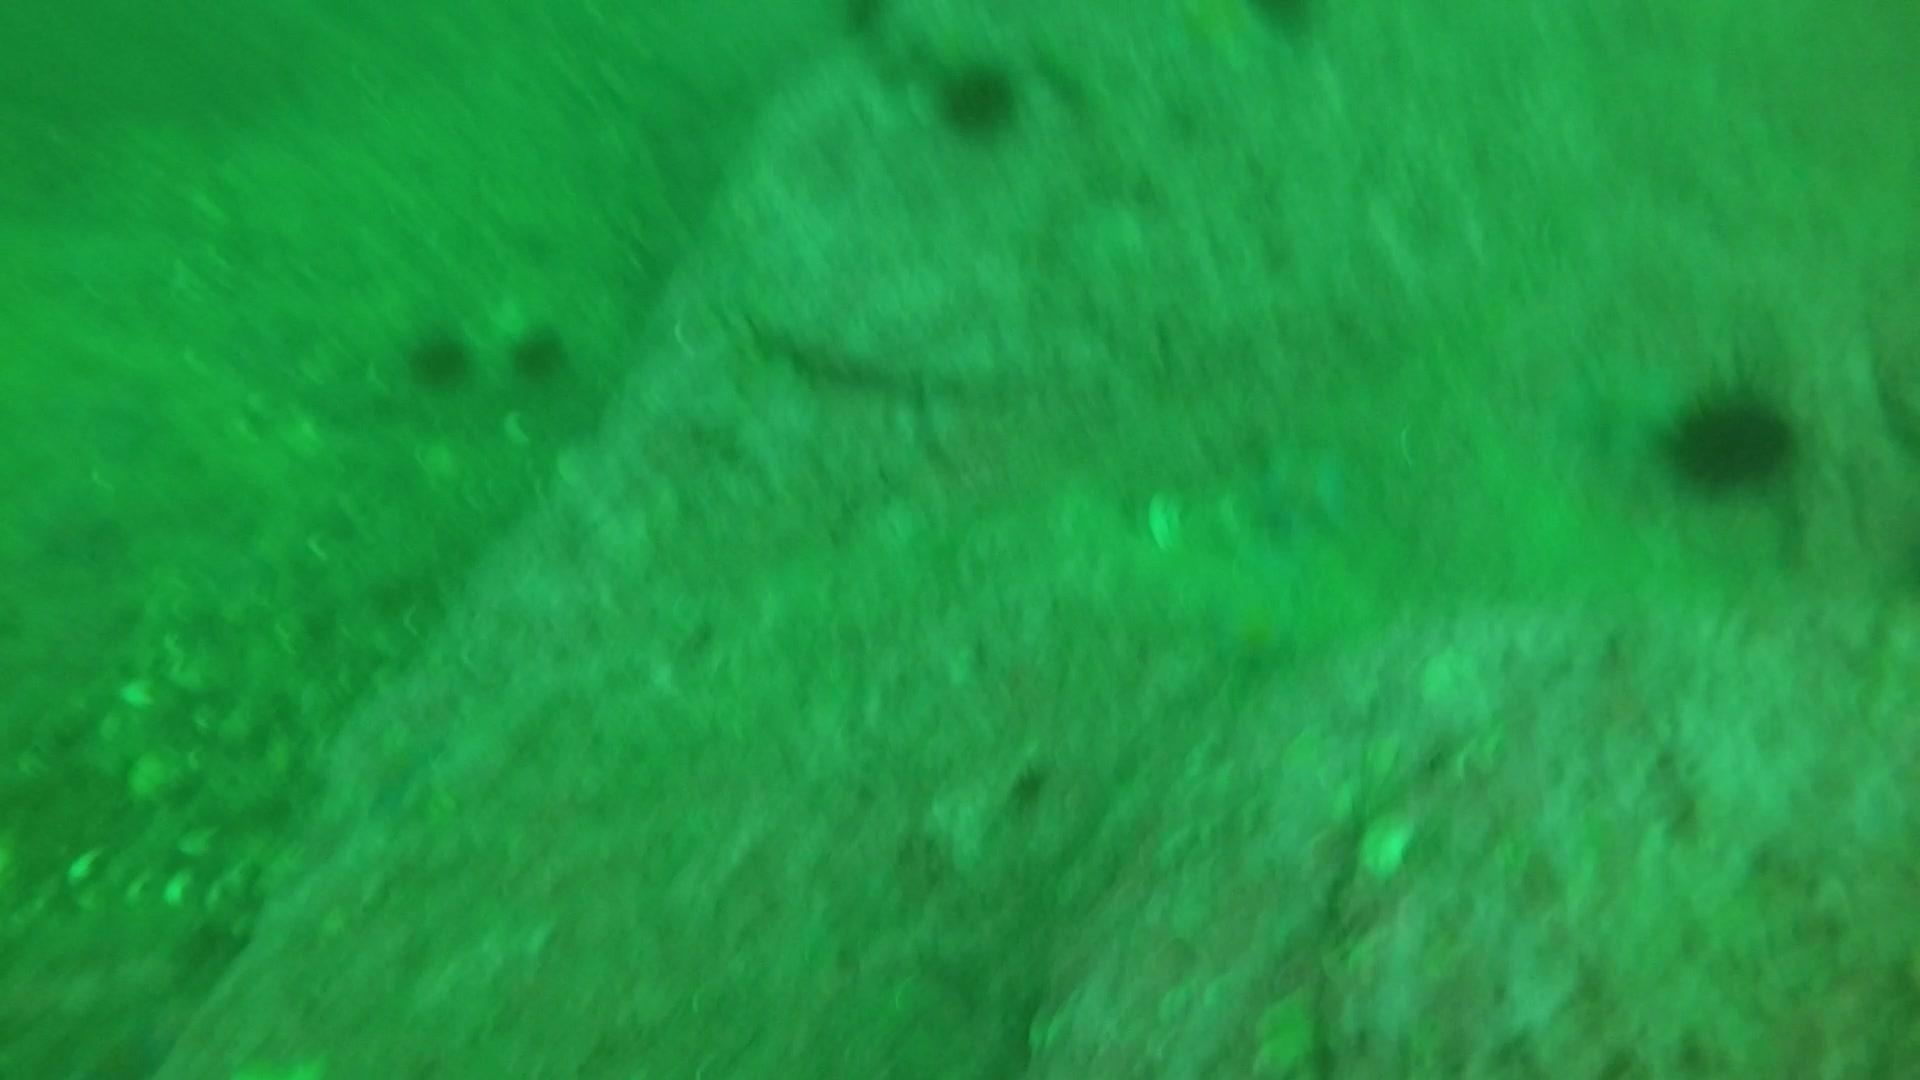echinus: (1656, 371, 1804, 497), (928, 55, 1026, 142), (401, 320, 476, 392), (504, 316, 575, 384), (1240, 0, 1335, 50)
starfish: (1236, 426, 1365, 549), (1199, 574, 1307, 676)
